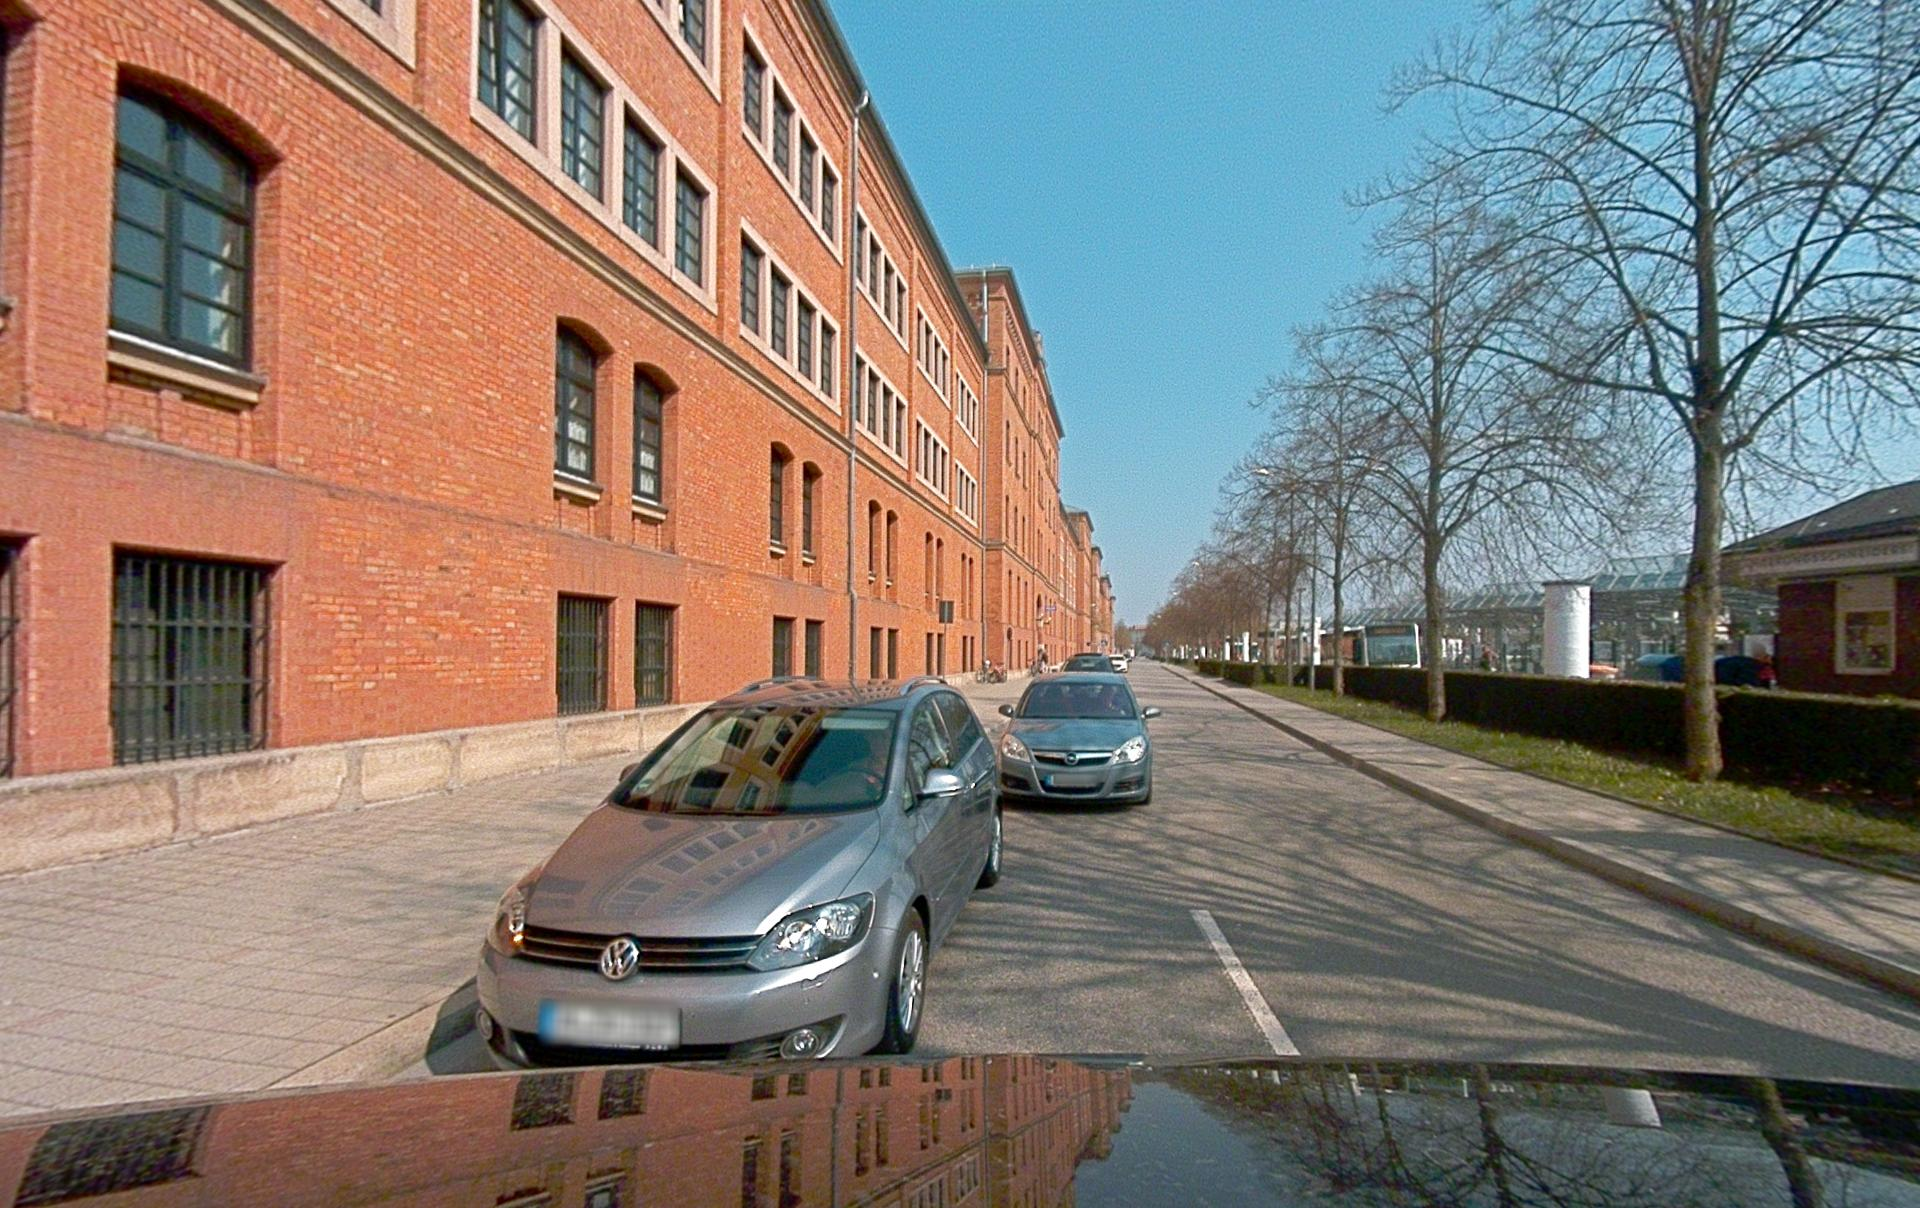car: (475, 674, 1003, 1067), (997, 673, 1162, 807), (1062, 653, 1115, 672), (1109, 655, 1129, 672)
